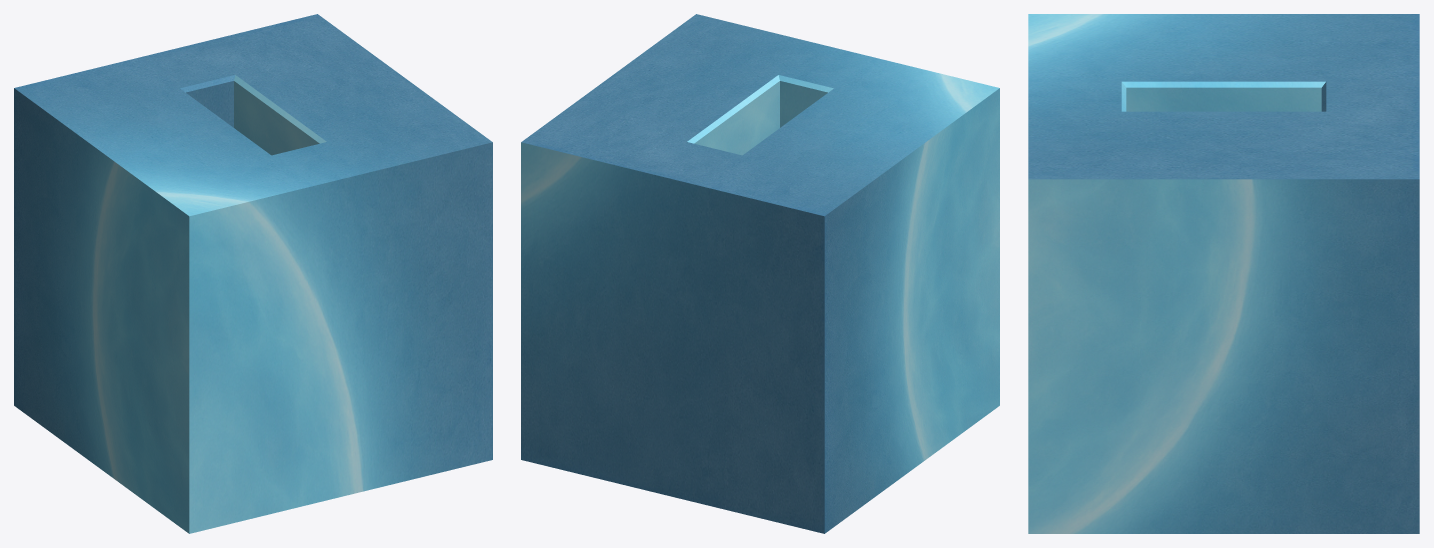
Rendered from rod_c.obj.
3 renders of one model, left to right at view 1: azimuth 30°, elevation 25°; view 2: azimuth 150°, elevation 25°; view 3: azimuth 270°, elevation 25°, orthographic. The views are drawn at different scales.
Visible parts, largest first — view 1: rod_c; view 2: rod_c; view 3: rod_c.
Boxes of the visible parts, box(x1,y1,x2,y2) form: rod_c: box(14, 14, 492, 533); rod_c: box(521, 14, 999, 533); rod_c: box(1028, 14, 1419, 533).
Size of the model in its own units: 0.9703 by 0.9703 by 0.9703.
Materials: 1 (1 with a texture image).
